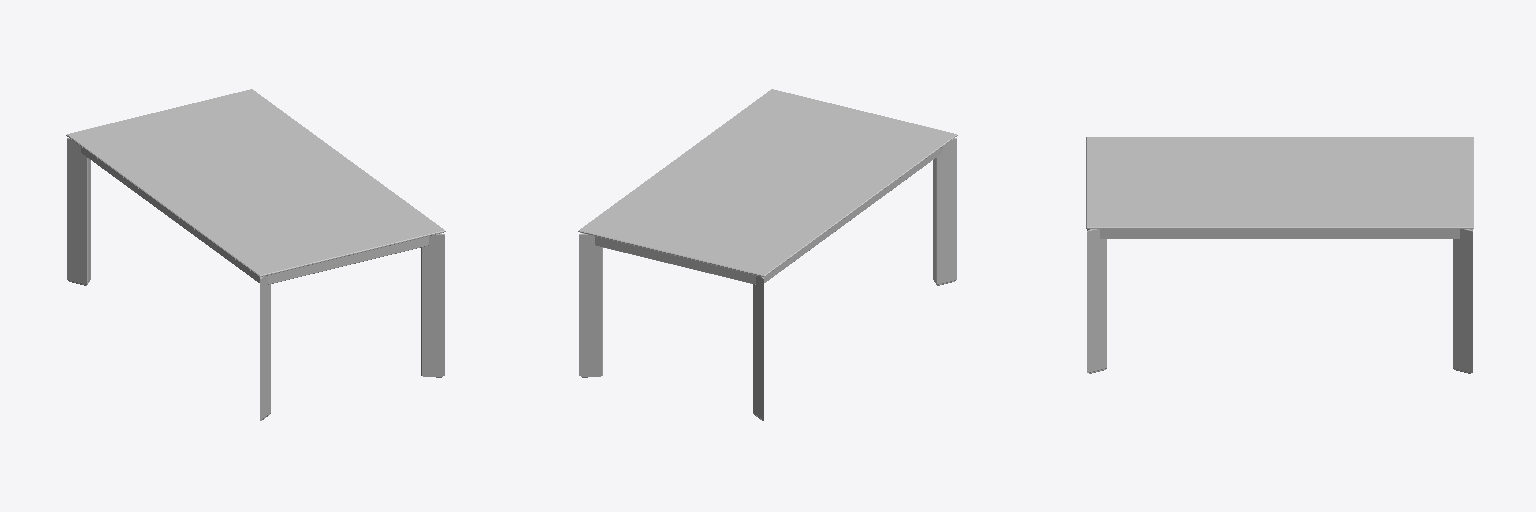
Rendered from table.obj.
3 renders of one model, left to right at view 1: azimuth 30°, elevation 25°; view 2: azimuth 150°, elevation 25°; view 3: azimuth 270°, elevation 25°, orthographic.
Visible parts, largest first — view 1: Box002, table_leg, table_leg0, Rectangle0, table_leg8; view 2: Box002, table_leg3, table_leg8, Rectangle0, table_leg0; view 3: Box002, Rectangle0, table_leg3, table_leg.
Boxes of the visible parts, box(x1,y1,x2,y2) form: Box002: box(66, 89, 445, 276); table_leg: box(421, 233, 444, 375); table_leg0: box(67, 138, 90, 284); Rectangle0: box(81, 147, 428, 284); table_leg8: box(260, 276, 270, 420); Box002: box(578, 89, 957, 276); table_leg3: box(579, 233, 602, 375); table_leg8: box(933, 138, 956, 284); Rectangle0: box(595, 147, 942, 284); table_leg0: box(753, 276, 763, 420); Box002: box(1086, 137, 1473, 228); Rectangle0: box(1100, 229, 1459, 238); table_leg3: box(1453, 229, 1472, 372); table_leg: box(1087, 229, 1106, 372).
Bounding box in the file's own units: 39.37 × 29.8 × 70.87.